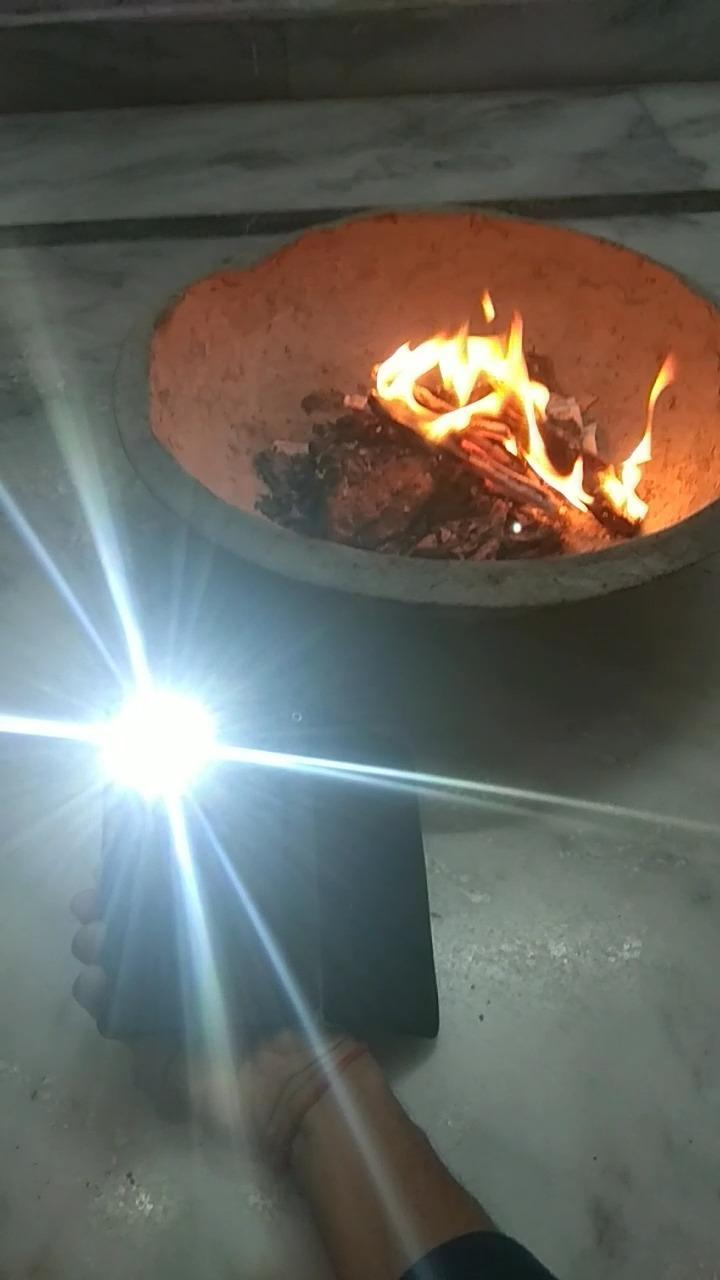fire: (368, 288, 684, 527)
